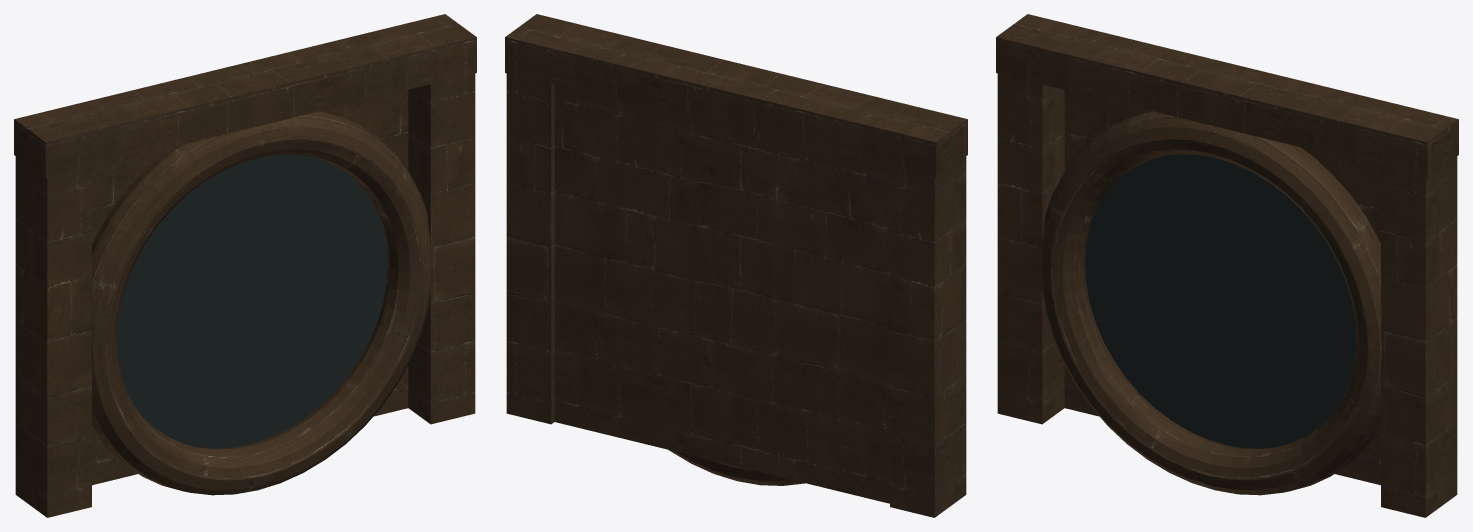
File: rain-drain-rebuilt.glb
3 views of the same model, side by side, from view 1: azimuth 30°, elevation 25°; view 2: azimuth 150°, elevation 25°; view 3: azimuth 330°, elevation 25° (orthographic).
Parts seen in each view (by area): view 1: 排水洞暗面, 石砌排水洞边缘, 排水口门楣, 排水口侧柱, 排水口侧柱.001, 洞口石墙背衬; view 2: 洞口石墙背衬, 排水口门楣, 排水口侧柱, 排水口侧柱.001, 石砌排水洞边缘; view 3: 排水洞暗面, 石砌排水洞边缘, 排水口门楣, 排水口侧柱.001, 排水口侧柱, 洞口石墙背衬.
Boxes of the visible parts, x1,y1,x2,y2 form: 排水洞暗面: [116, 154, 387, 448]; 石砌排水洞边缘: [91, 111, 431, 495]; 排水口门楣: [14, 14, 476, 177]; 排水口侧柱: [15, 149, 91, 517]; 排水口侧柱.001: [408, 60, 475, 424]; 洞口石墙背衬: [92, 90, 408, 485]; 洞口石墙背衬: [554, 85, 889, 503]; 排水口门楣: [505, 14, 967, 177]; 排水口侧柱: [890, 149, 966, 517]; 排水口侧柱.001: [506, 55, 554, 424]; 石砌排水洞边缘: [669, 450, 804, 485]; 排水洞暗面: [1085, 154, 1356, 448]; 石砌排水洞边缘: [1041, 111, 1381, 495]; 排水口门楣: [996, 14, 1458, 177]; 排水口侧柱.001: [1381, 149, 1457, 517]; 排水口侧柱: [997, 55, 1064, 424]; 洞口石墙背衬: [1064, 90, 1380, 485].
Size of the model in its own units: 6.3 by 5.67 by 0.86.
Materials: 2 (1 with a texture image).
